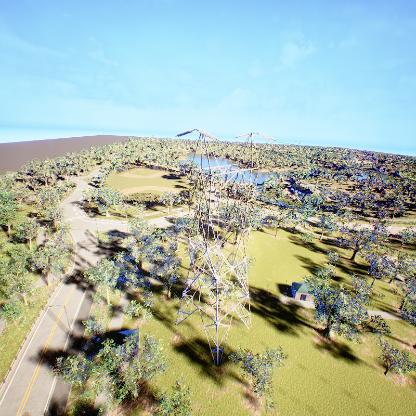tower: (174, 127, 277, 364)
